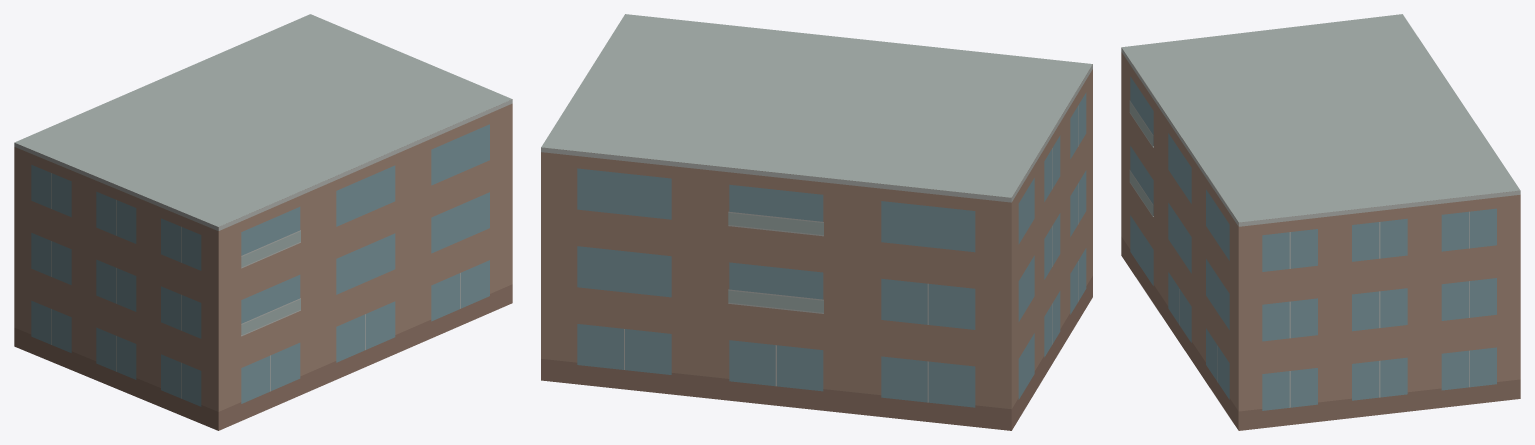
Rendered from survey-upis-32495426.glb.
3 renders of one model, left to right at view 1: azimuth 30°, elevation 25°; view 2: azimuth 150°, elevation 25°; view 3: azimuth 270°, elevation 25°, orthographic. The views are drawn at different scales.
Visible parts, largest first — view 1: survey-upis-32495426.tmp; view 2: survey-upis-32495426.tmp; view 3: survey-upis-32495426.tmp.
Part boxes in pixels (left/top/right/bottom): survey-upis-32495426.tmp: left=14, top=14, right=512, bottom=430; survey-upis-32495426.tmp: left=541, top=14, right=1092, bottom=430; survey-upis-32495426.tmp: left=1121, top=14, right=1520, bottom=430.
Bounding box in the file's own units: 25.56 × 11.9 × 20.68.
